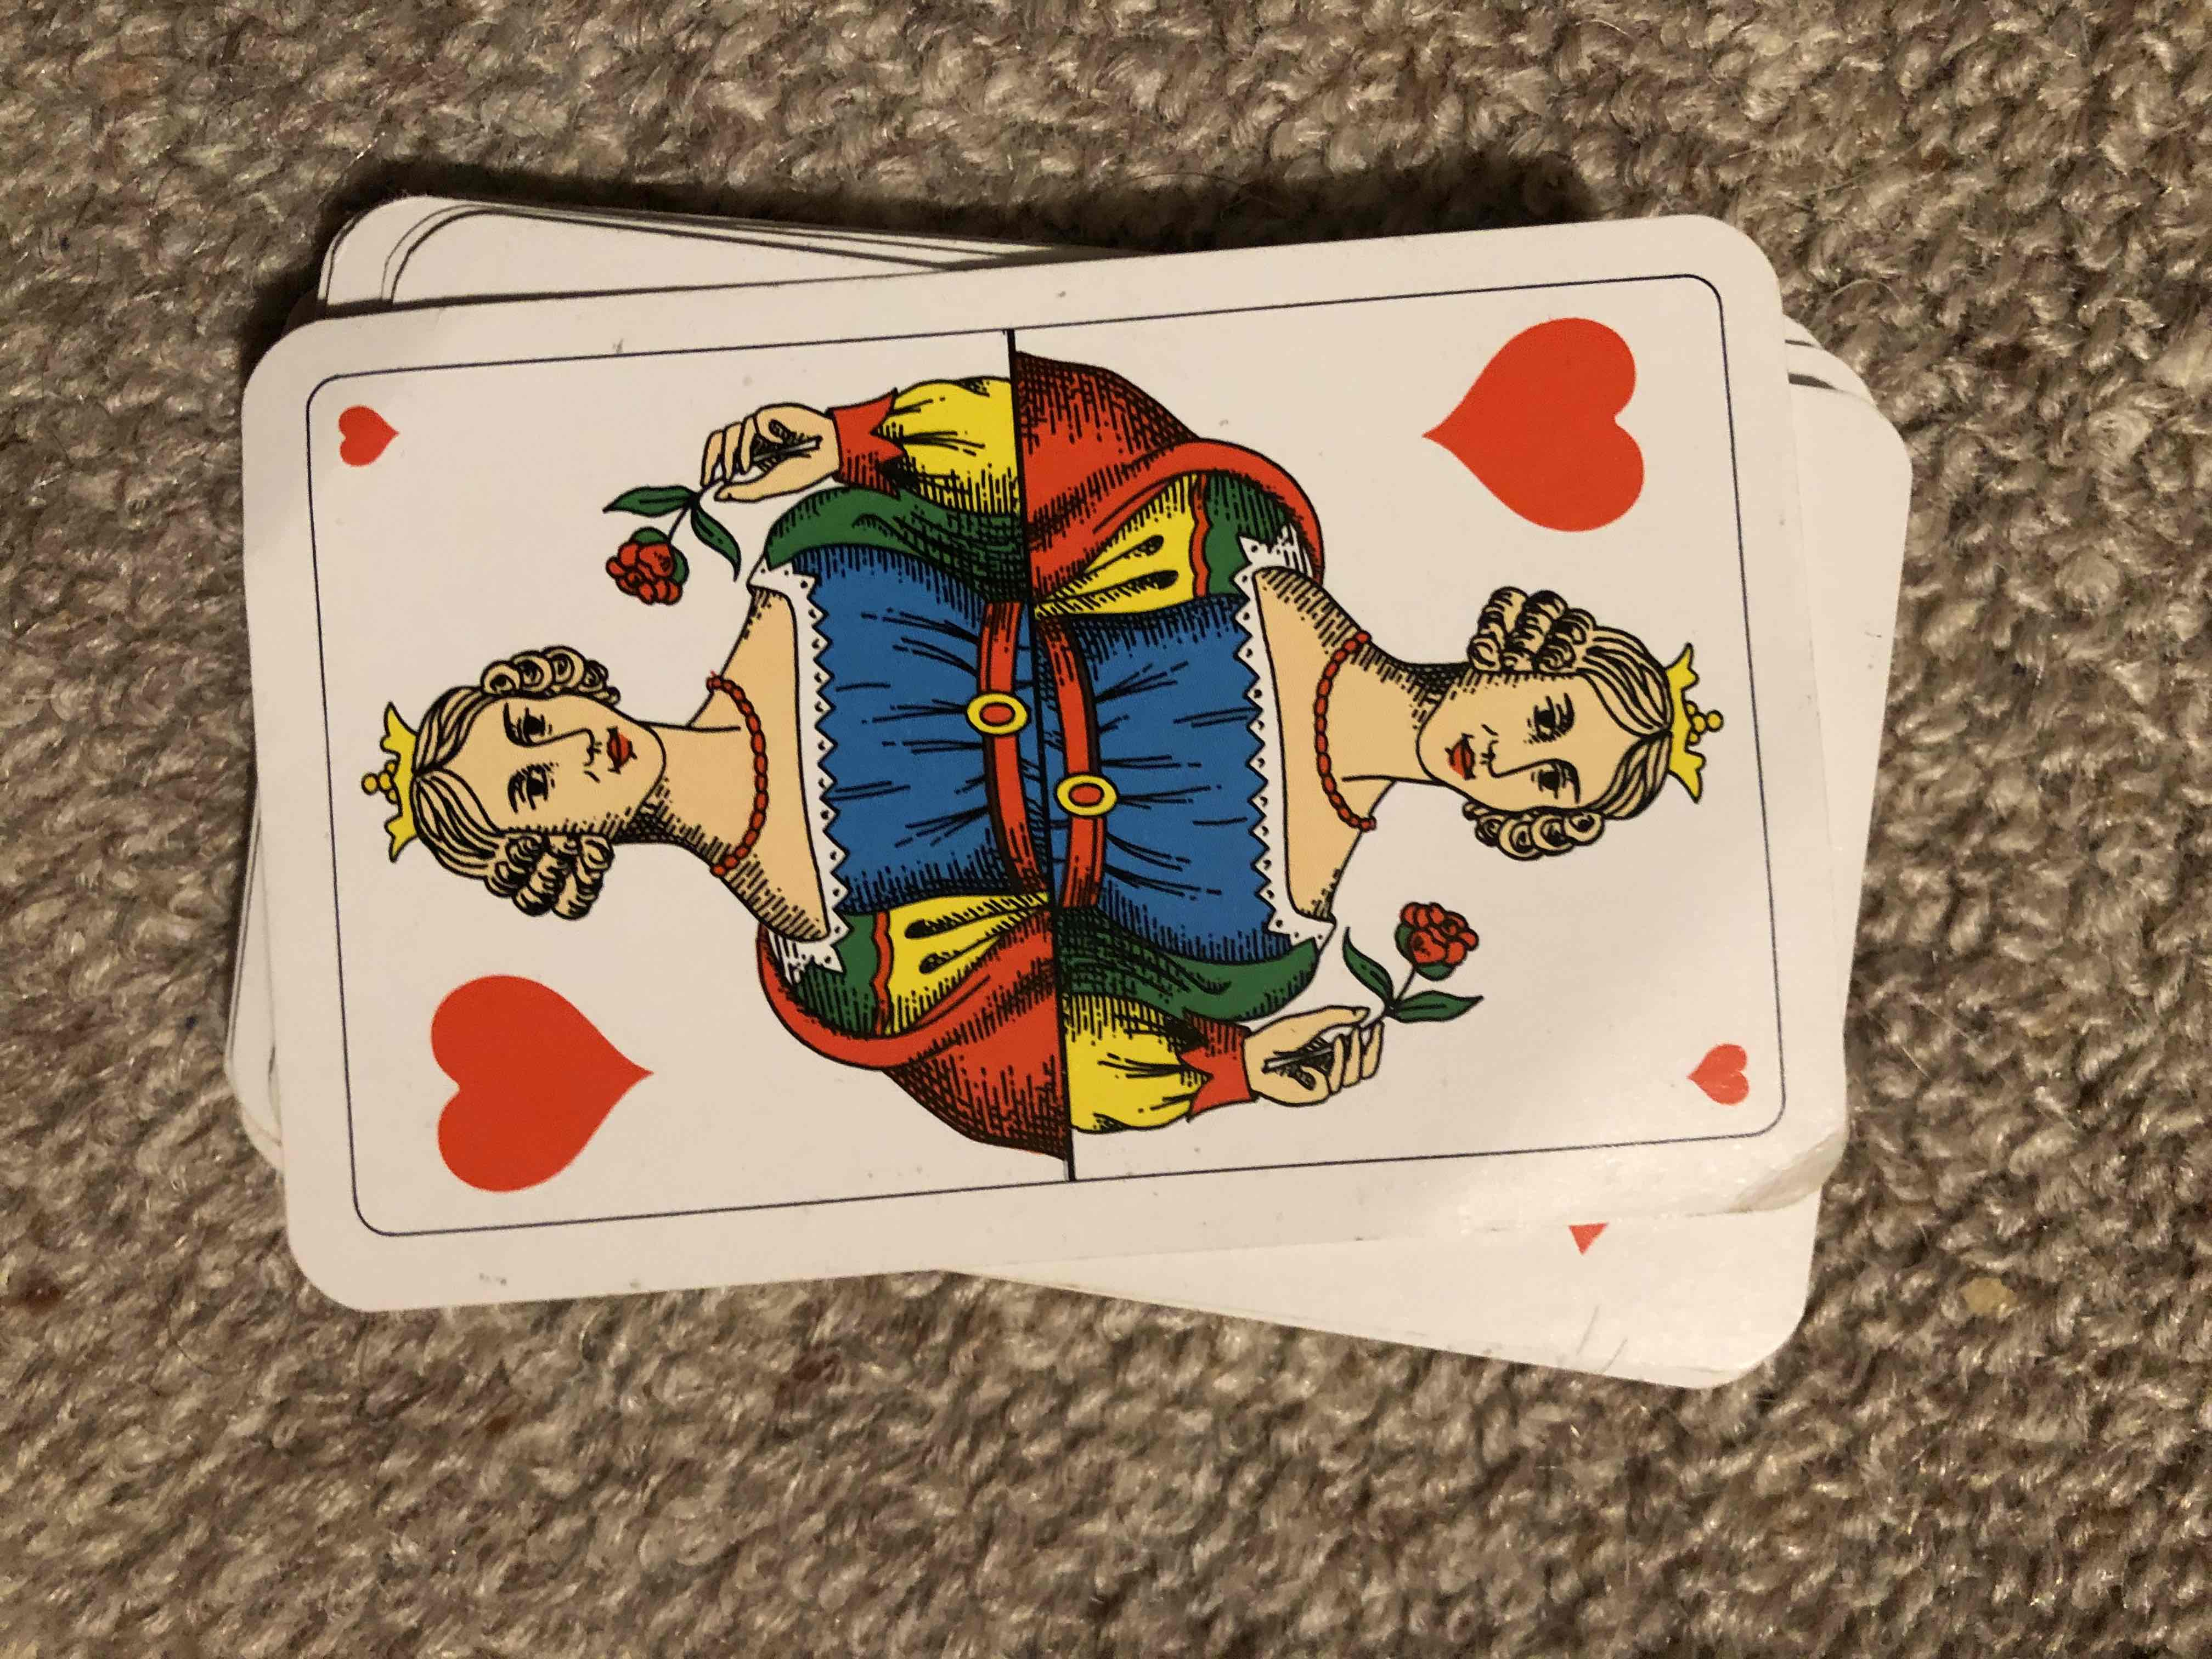heartsQueen: (233, 281, 1858, 1223)
